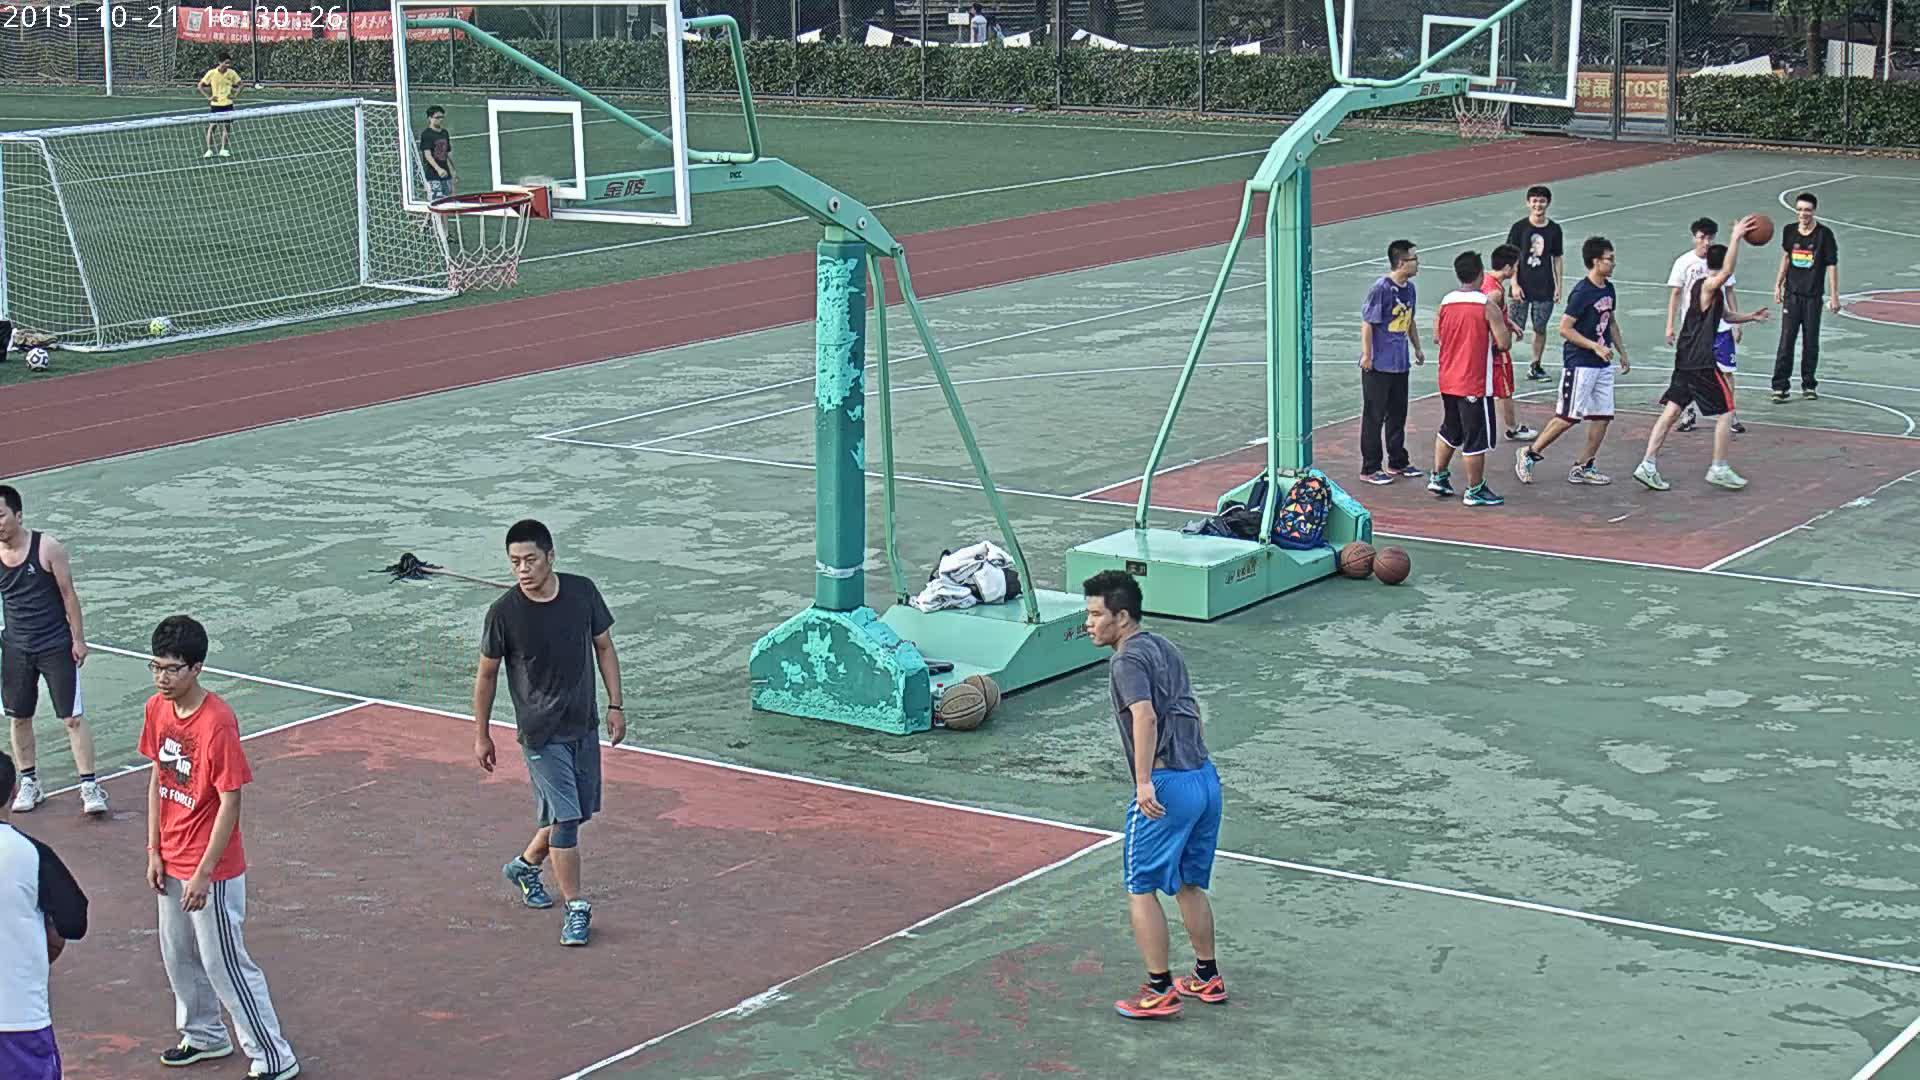person: (136, 614, 301, 1080), (1082, 570, 1228, 1017), (474, 520, 624, 945), (1631, 212, 1772, 490), (0, 485, 108, 812), (0, 749, 88, 1080), (1515, 236, 1628, 485), (1426, 251, 1509, 507), (1664, 217, 1743, 432), (1359, 239, 1424, 486), (1769, 193, 1838, 403), (1478, 244, 1537, 440), (1504, 186, 1562, 382), (419, 105, 456, 241), (197, 53, 243, 158), (970, 2, 986, 42)
